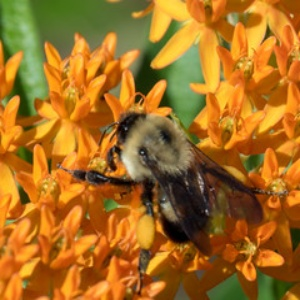bee: (118, 109, 264, 256)
